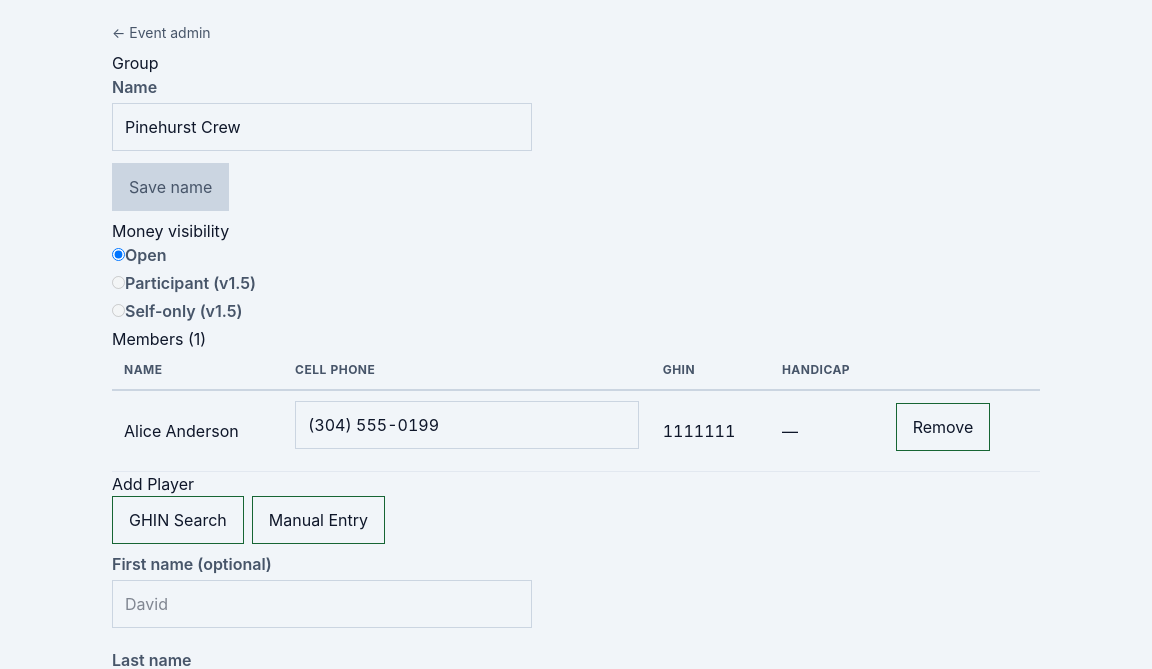
Test: EditGroupPage › add error: 409 player_already_in_group → friendly message
expect the text "Alice Anderson" is shown: met, box x1=112 y1=390 x2=283 y2=472
Click the tab "Manual Entry": click(318, 520) x1=252 y1=496 x2=385 y2=544
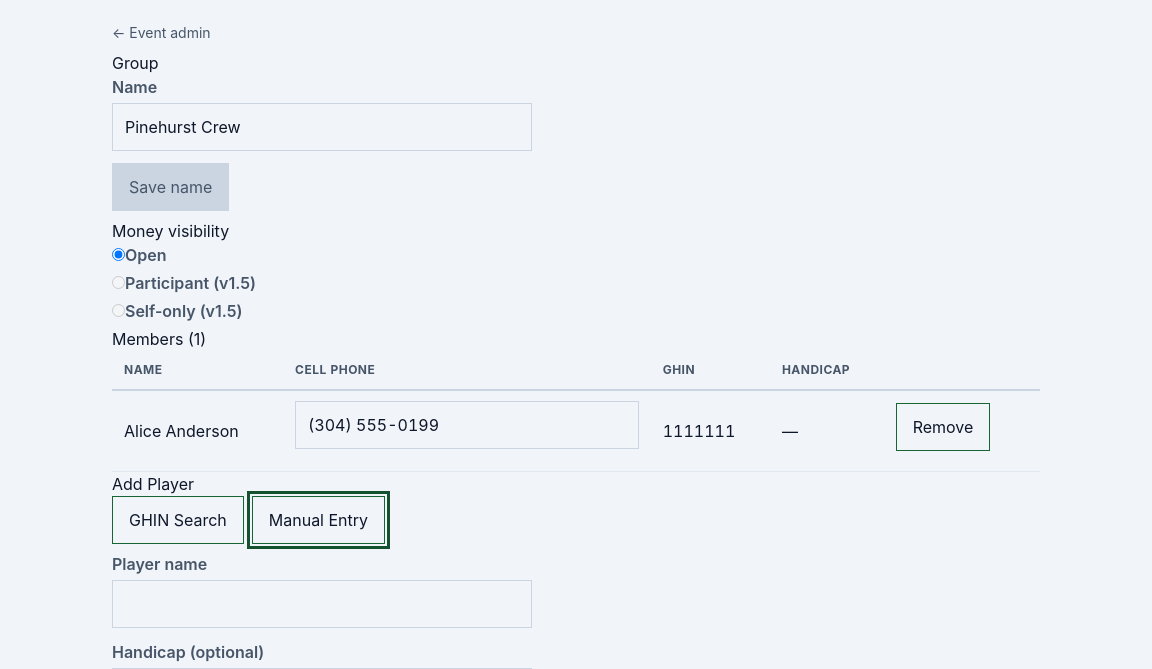
In the field labelled "Player name": (322, 604) x1=112 y1=580 x2=532 y2=628, type "Dupe"
(page scrolled)
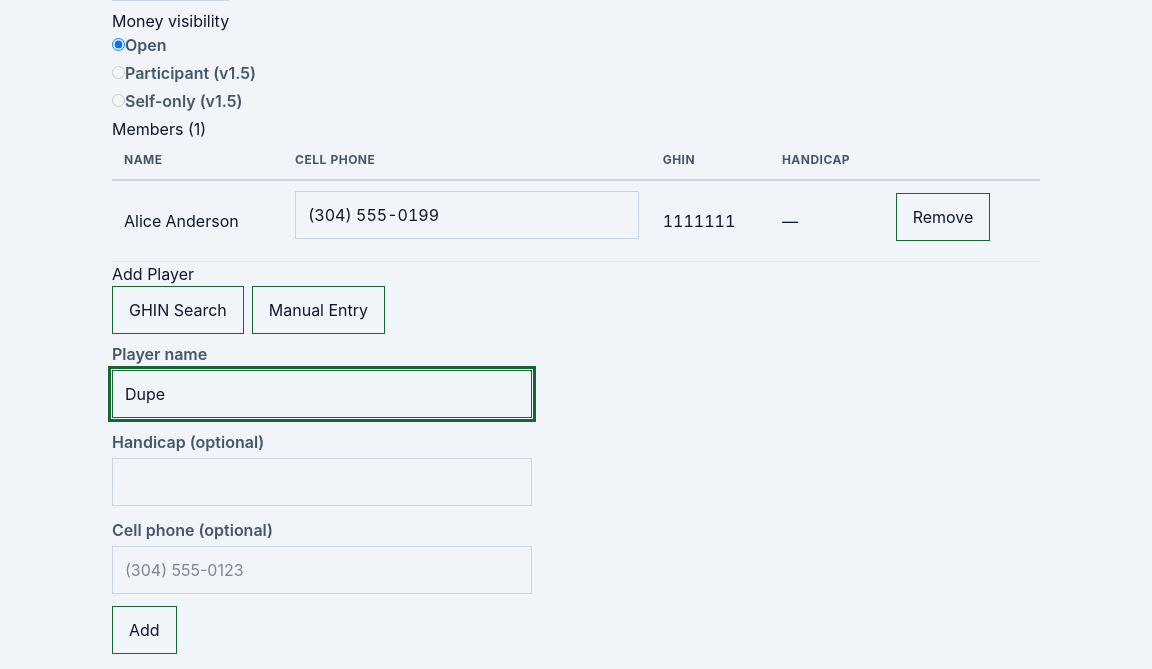
Click the button "Add": click(144, 630) x1=112 y1=606 x2=177 y2=654
(page scrolled)
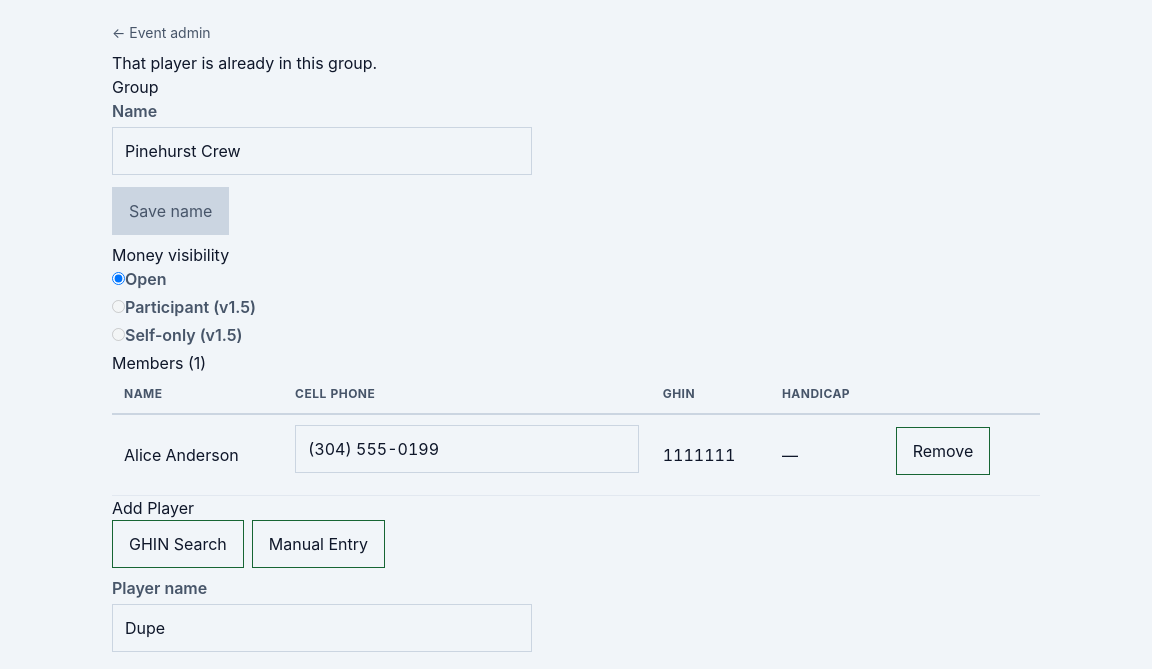
expect the message shows "already in this group": met, box x1=112 y1=53 x2=377 y2=73
